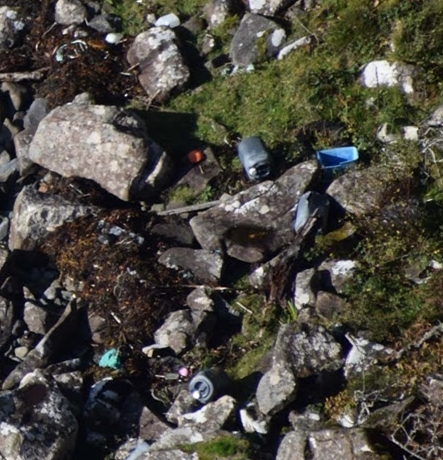cuboid: (309, 137, 366, 172)
together_barrel: (50, 23, 128, 67)
white_in_green: (216, 117, 302, 201), (170, 341, 252, 425), (275, 175, 346, 246), (77, 329, 144, 391), (168, 132, 218, 176), (169, 353, 207, 390)
